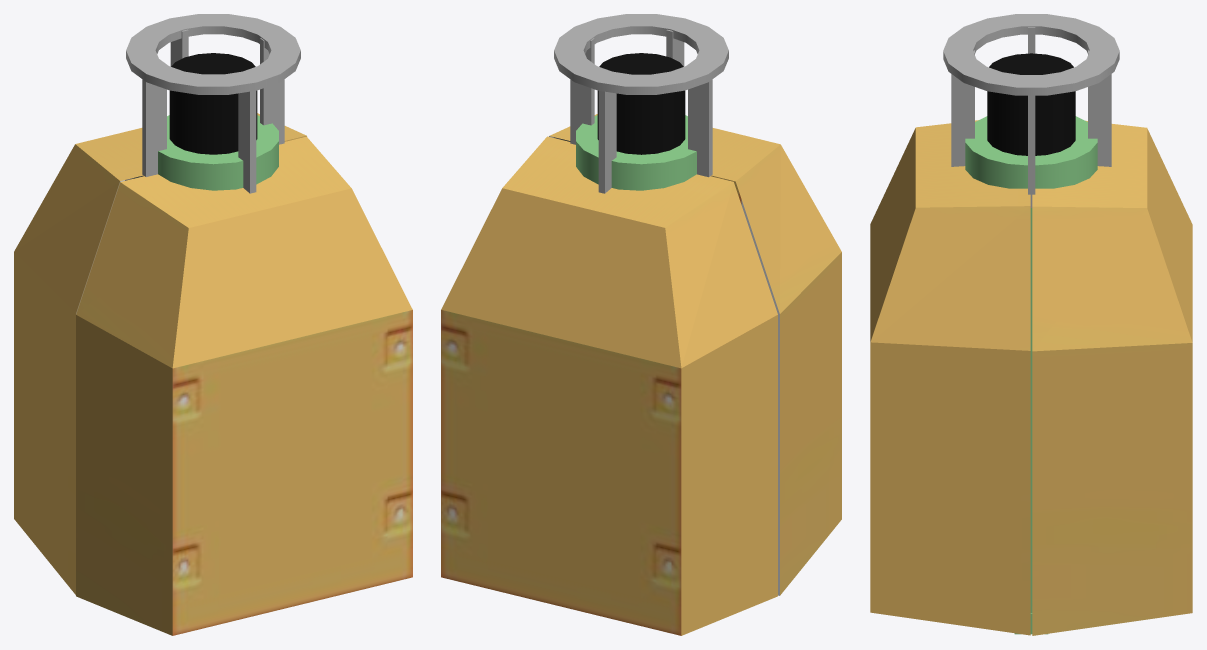
File: yigndaqi moxing.FBX
3 views of the same model, side by side, from view 1: azimuth 30°, elevation 25°; view 2: azimuth 150°, elevation 25°; view 3: azimuth 270°, elevation 25° (orthographic).
Visible parts, largest first — view 1: Line002, Tube001, Rectangle002, Cylinder002, Cylinder001; view 2: Line002, Tube001, Rectangle002, Cylinder002, Cylinder001; view 3: Line002, Tube001, Cylinder001, Cylinder002, Rectangle002.
Part boxes in pixels (x1=…): Line002: x1=14, y1=113, x2=412, y2=635; Tube001: x1=126, y1=14, x2=300, y2=94; Rectangle002: x1=142, y1=29, x2=284, y2=193; Cylinder002: x1=169, y1=53, x2=257, y2=154; Cylinder001: x1=158, y1=115, x2=278, y2=190; Line002: x1=441, y1=114, x2=841, y2=635; Tube001: x1=554, y1=14, x2=728, y2=94; Rectangle002: x1=570, y1=29, x2=712, y2=193; Cylinder002: x1=597, y1=53, x2=685, y2=154; Cylinder001: x1=576, y1=115, x2=696, y2=190; Line002: x1=870, y1=120, x2=1192, y2=635; Tube001: x1=943, y1=14, x2=1119, y2=95; Cylinder001: x1=965, y1=116, x2=1097, y2=606; Cylinder002: x1=987, y1=53, x2=1075, y2=155; Rectangle002: x1=951, y1=27, x2=1111, y2=207.
Bounding box in the file's own units: 0.0956 × 0.1843 × 0.0957.
4 materials, 1 textured.
